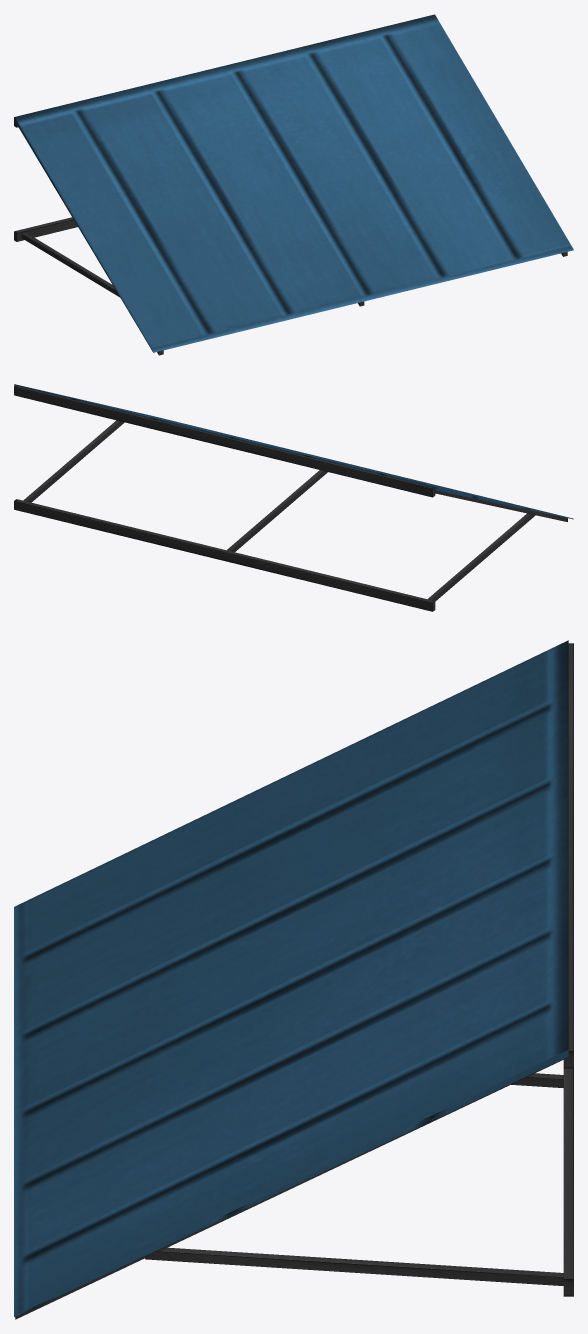
File: ds_canopy_3_D.FBX
3 views of the same model, one above another, from view 1: azimuth 30°, elevation 25°; view 2: azimuth 150°, elevation 25°; view 3: azimuth 270°, elevation 25° (orthographic). The views are drawn at different scales.
Parts seen in each view (by area): view 1: ds_canopy_3_D; view 2: ds_canopy_3_D; view 3: ds_canopy_3_D.
Boxes of the visible parts, <box> form: ds_canopy_3_D: <box>14,14,573,355</box>; ds_canopy_3_D: <box>14,384,573,611</box>; ds_canopy_3_D: <box>14,640,573,1319</box>.
Size of the model in its own units: 10.08 by 5.83 by 3.17.
